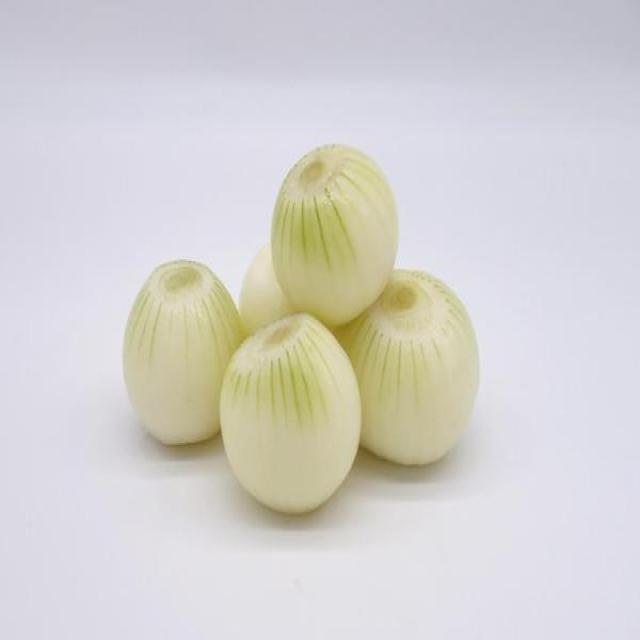Onion: (335, 266, 478, 462), (221, 315, 360, 515), (271, 146, 399, 327), (122, 259, 245, 445), (239, 238, 296, 334)
